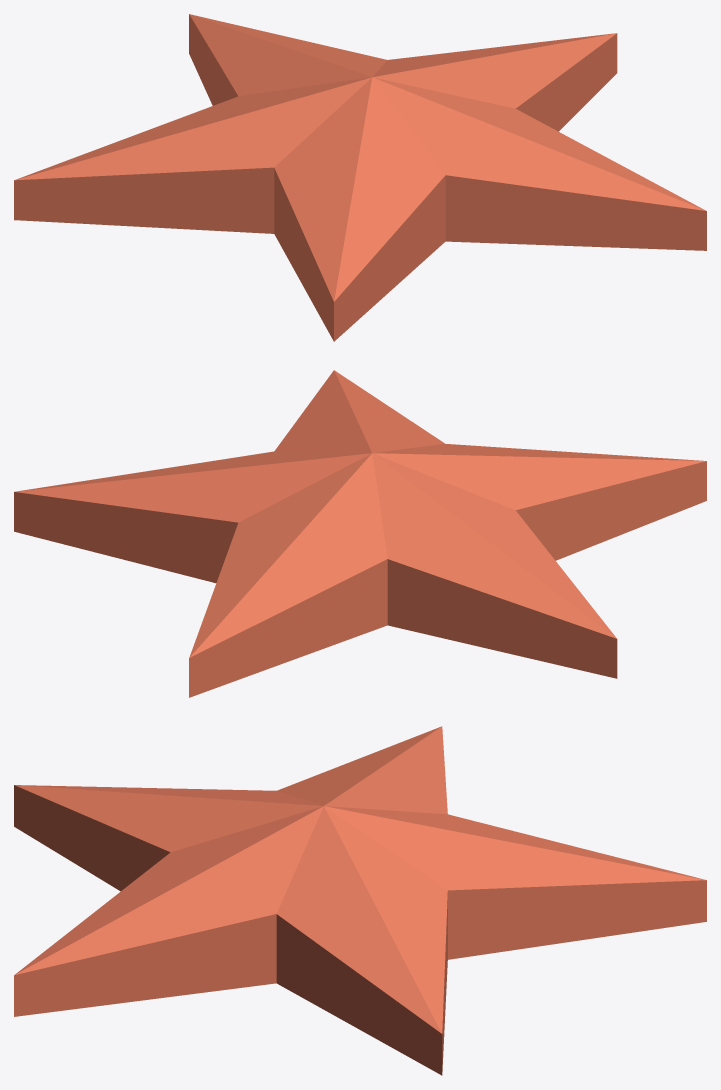
The model's file is Starfish.fbx.
The picture shows the model from 3 angles, top to bottom: view 1: azimuth 30°, elevation 25°; view 2: azimuth 150°, elevation 25°; view 3: azimuth 270°, elevation 25°; orthographic projection. The views are drawn at different scales.
Visible parts, largest first — view 1: Starfish_Starfish; view 2: Starfish_Starfish; view 3: Starfish_Starfish.
Part boxes in pixels (x1=…): Starfish_Starfish: x1=14, y1=14, x2=706, y2=341; Starfish_Starfish: x1=14, y1=370, x2=706, y2=697; Starfish_Starfish: x1=14, y1=726, x2=706, y2=1075.
Bounding box in the file's own units: 2.85 × 0.5 × 2.71.
